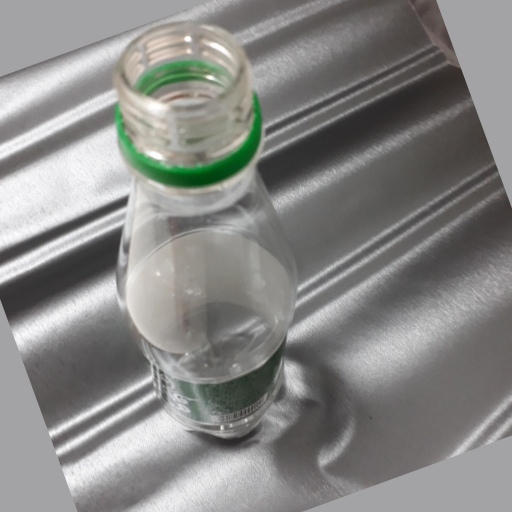Plastic_0: (110, 23, 293, 441)
